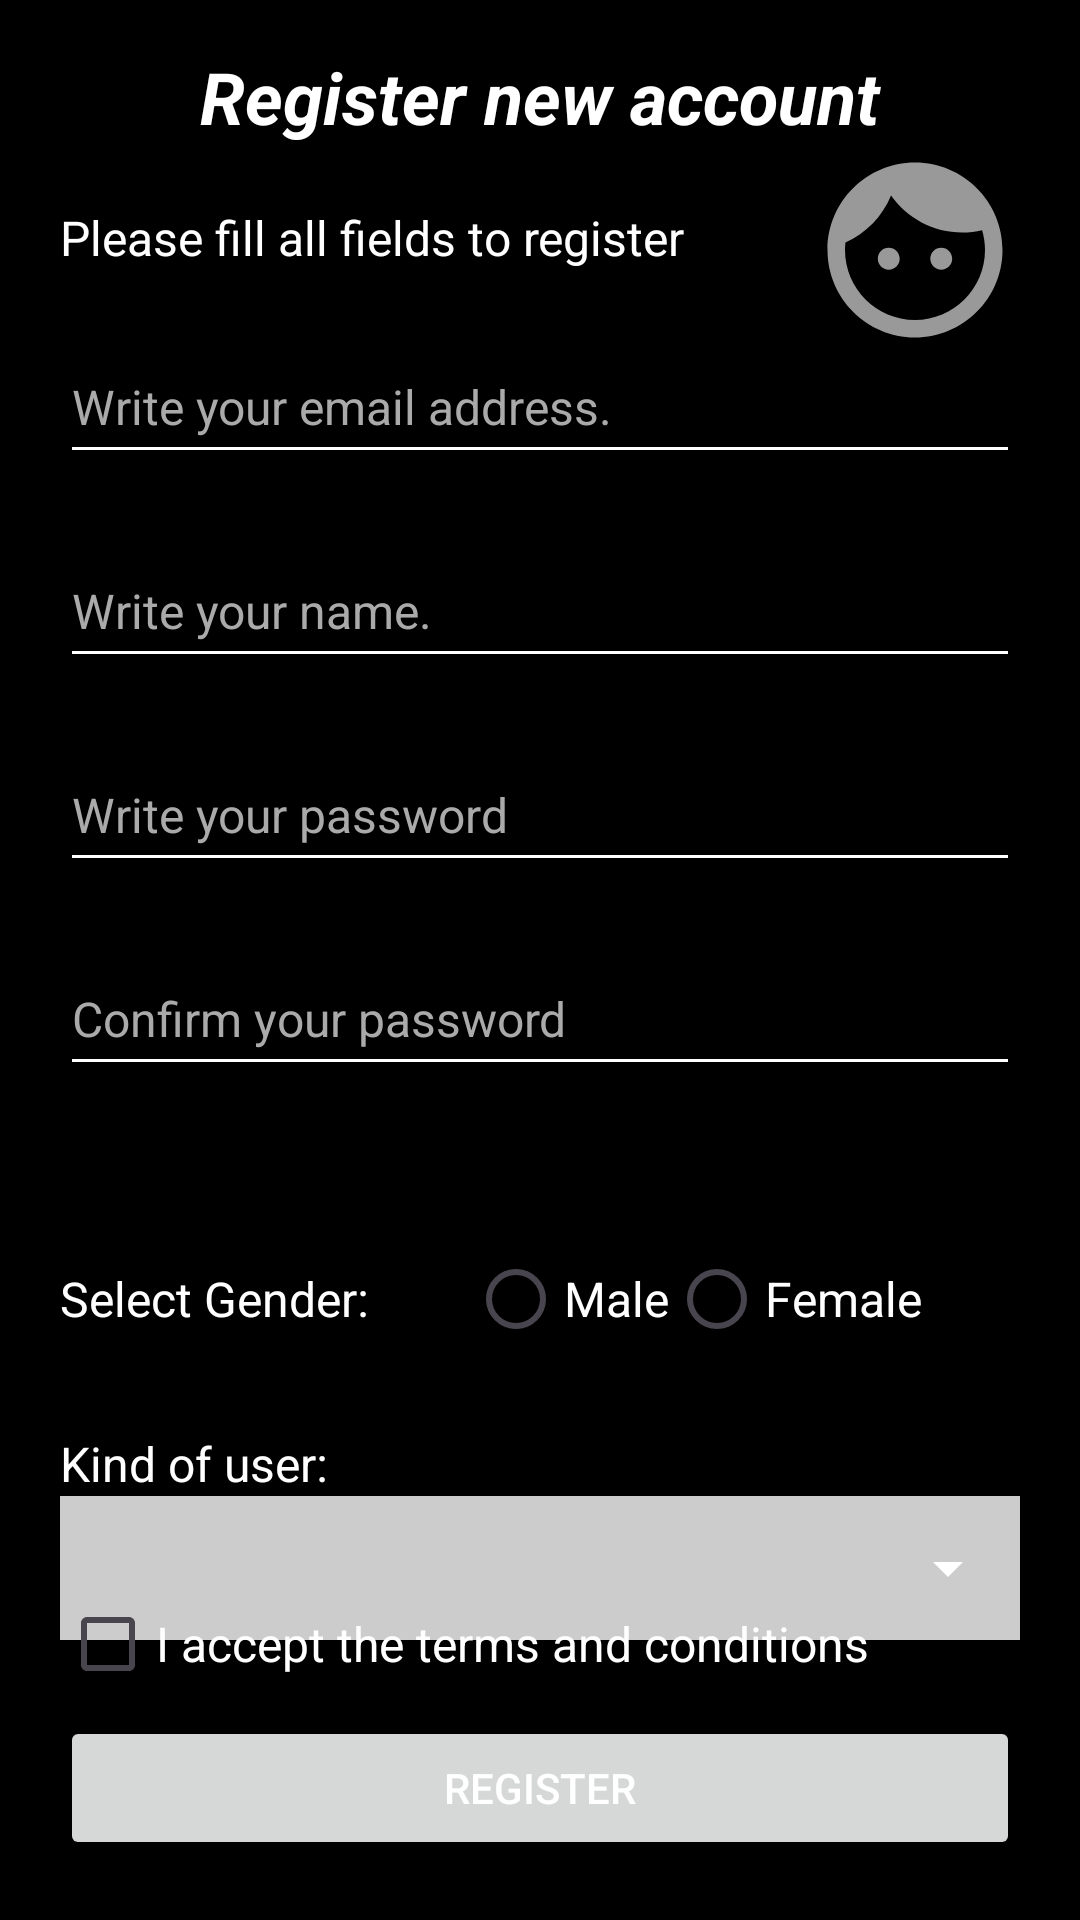

Named icons in this screenshot (1080*1920) and their bounding boxes, {"left": x1, "top": y1, "right": x2, "bottom": y2}:
face: {"left": 827, "top": 162, "right": 1003, "bottom": 338}
